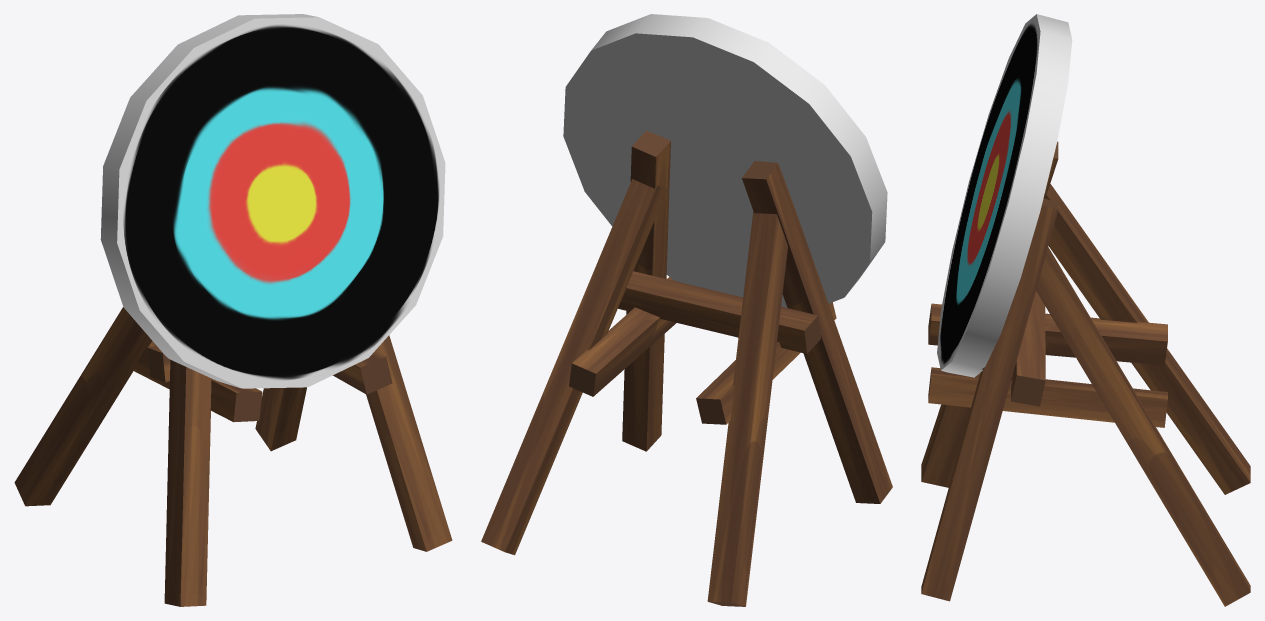
Rendered from dianaGrande.obj.
3 views of the same model, side by side, from view 1: azimuth 30°, elevation 25°; view 2: azimuth 150°, elevation 25°; view 3: azimuth 270°, elevation 25° (orthographic). The views are drawn at different scales.
Parts seen in each view (by area): view 1: polySurface52; view 2: polySurface52; view 3: polySurface52.
Boxes of the visible parts, left/top/right/bottom form: polySurface52: left=14, top=14, right=452, bottom=606; polySurface52: left=481, top=14, right=892, bottom=606; polySurface52: left=921, top=14, right=1250, bottom=606.
Bounding box in the file's own units: 46.58 × 71.72 × 41.51.
